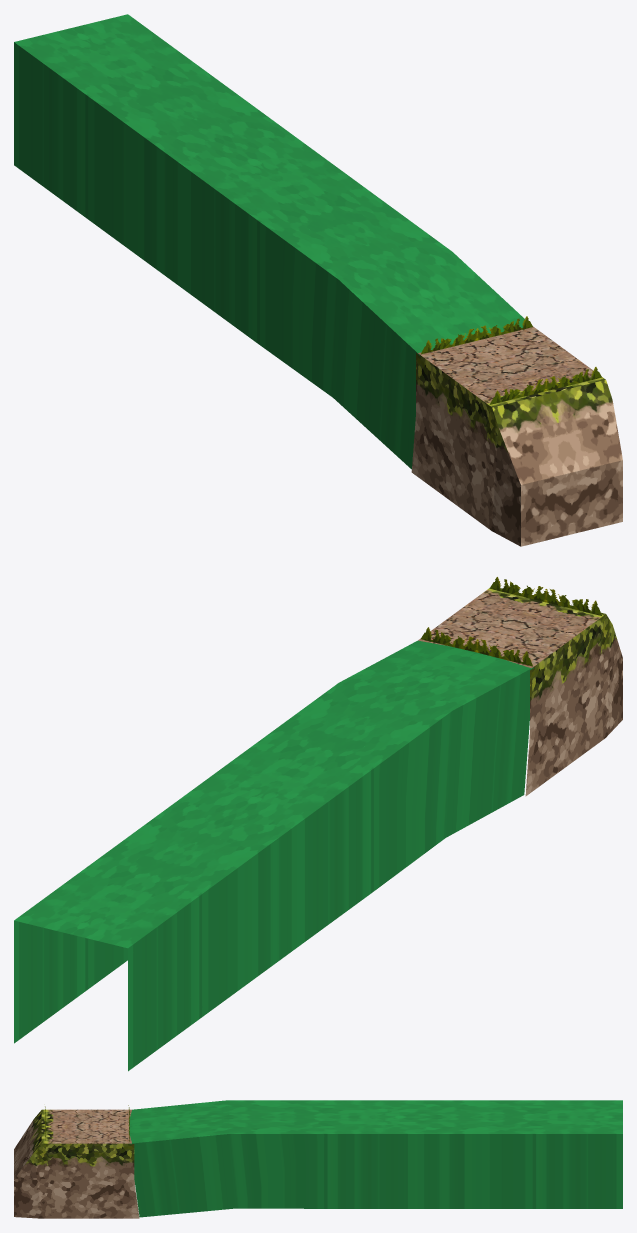
Rendered from terreno_11_uno.FBX.
The picture shows the model from 3 angles, top to bottom: view 1: azimuth 30°, elevation 25°; view 2: azimuth 150°, elevation 25°; view 3: azimuth 270°, elevation 25°; orthographic projection. The views are drawn at different scales.
Visible parts, largest first — view 1: Terreno015; view 2: Terreno015; view 3: Terreno015.
Boxes of the visible parts, box(x1,y1,x2,y2) form: Terreno015: box(14, 14, 622, 546); Terreno015: box(14, 577, 622, 1071); Terreno015: box(14, 1100, 622, 1218).
Bounding box in the file's own units: 1.92 × 14.59 × 2.24.
2 materials, 2 textured.
